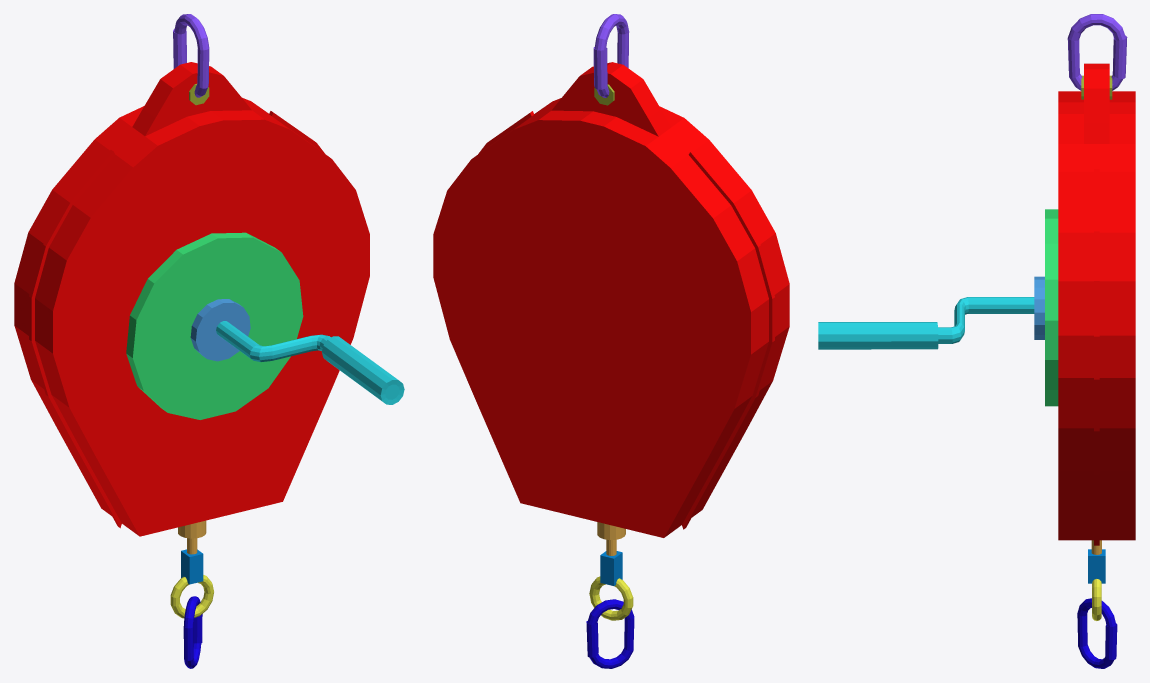
File: sistema anti caida.fbx
3 views of the same model, side by side, from view 1: azimuth 30°, elevation 25°; view 2: azimuth 150°, elevation 25°; view 3: azimuth 270°, elevation 25° (orthographic).
Visible parts, largest first — view 1: Base.002, base palanca 1.002, base palanca 3.002, base palanca 2.002, cadena parte superior.002, base cadena 4.002, base cadena 3.002, base cadena 2.002, base cadena 1.002; view 2: Base.002, cadena parte superior.002, base cadena 4.002, base cadena 3.002, base cadena 2.002, base cadena 1.002; view 3: Base.002, base palanca 3.002, base palanca 1.002, cadena parte superior.002, base cadena 4.002, base palanca 2.002, base cadena 2.002.
Part boxes in pixels (x1=…): Base.002: x1=14, y1=62, x2=369, y2=536; base palanca 1.002: x1=126, y1=232, x2=303, y2=419; base palanca 3.002: x1=216, y1=321, x2=404, y2=404; base palanca 2.002: x1=190, y1=299, x2=250, y2=361; cadena parte superior.002: x1=173, y1=14, x2=209, y2=97; base cadena 4.002: x1=183, y1=596, x2=202, y2=668; base cadena 3.002: x1=170, y1=575, x2=213, y2=618; base cadena 2.002: x1=181, y1=549, x2=203, y2=584; base cadena 1.002: x1=178, y1=520, x2=206, y2=554; Base.002: x1=433, y1=62, x2=789, y2=537; cadena parte superior.002: x1=593, y1=14, x2=629, y2=97; base cadena 4.002: x1=586, y1=599, x2=634, y2=668; base cadena 3.002: x1=589, y1=576, x2=633, y2=620; base cadena 2.002: x1=600, y1=551, x2=622, y2=585; base cadena 1.002: x1=597, y1=522, x2=625, y2=555; Base.002: x1=1058, y1=63, x2=1135, y2=545; base palanca 3.002: x1=818, y1=297, x2=1034, y2=349; base palanca 1.002: x1=1045, y1=209, x2=1058, y2=406; cadena parte superior.002: x1=1067, y1=14, x2=1127, y2=90; base cadena 4.002: x1=1077, y1=598, x2=1117, y2=668; base palanca 2.002: x1=1034, y1=276, x2=1044, y2=339; base cadena 2.002: x1=1088, y1=549, x2=1105, y2=583.
Bounding box in the file's own units: 27.49 × 52.82 × 23.26.
